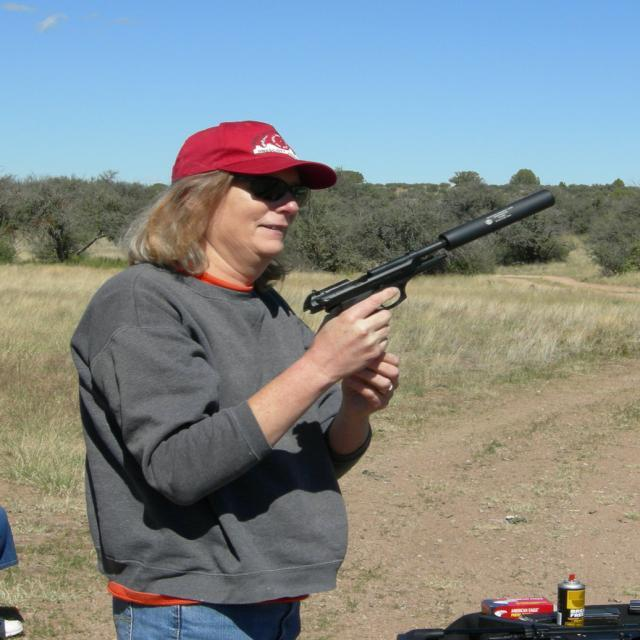weapon: (303, 188, 556, 316)
